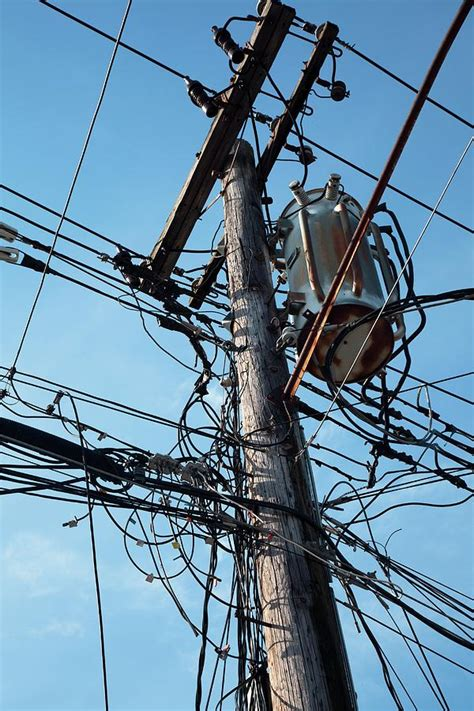pole: (126, 71, 424, 705)
